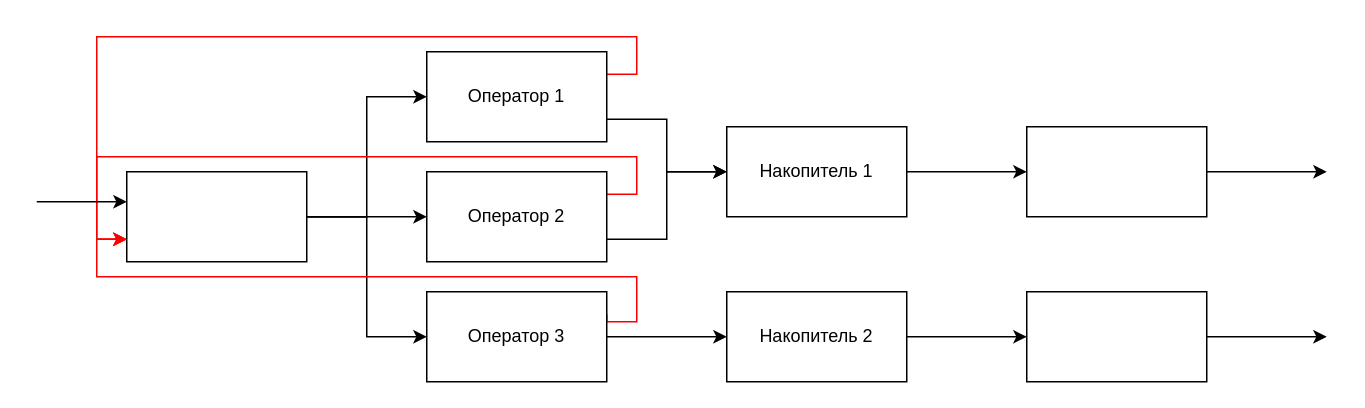
The diagram is 1365 pixels wide and 408 high, and some of its shapes have lost their labels. Each missing label, with the box of its shape:
Накопитель: (125, 170, 307, 262)
Обслуживающий аппарат 1: (1025, 125, 1207, 217)
Обслуживающий аппарат 2: (1025, 290, 1207, 382)
